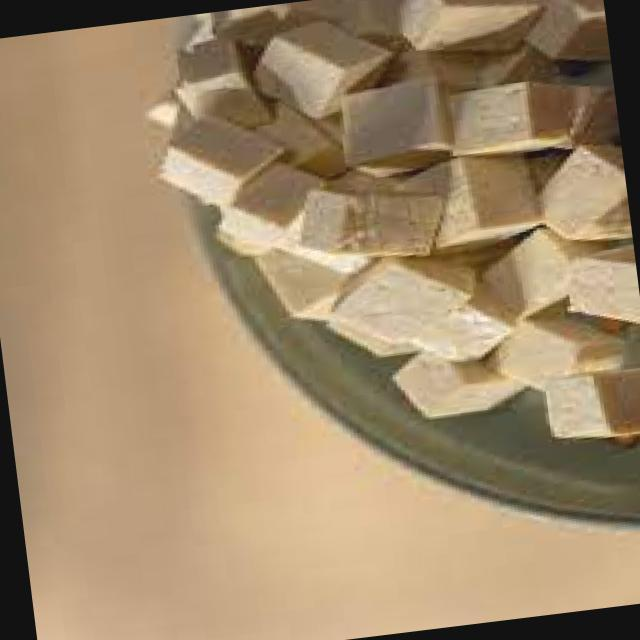tofu: (183, 0, 636, 405)
